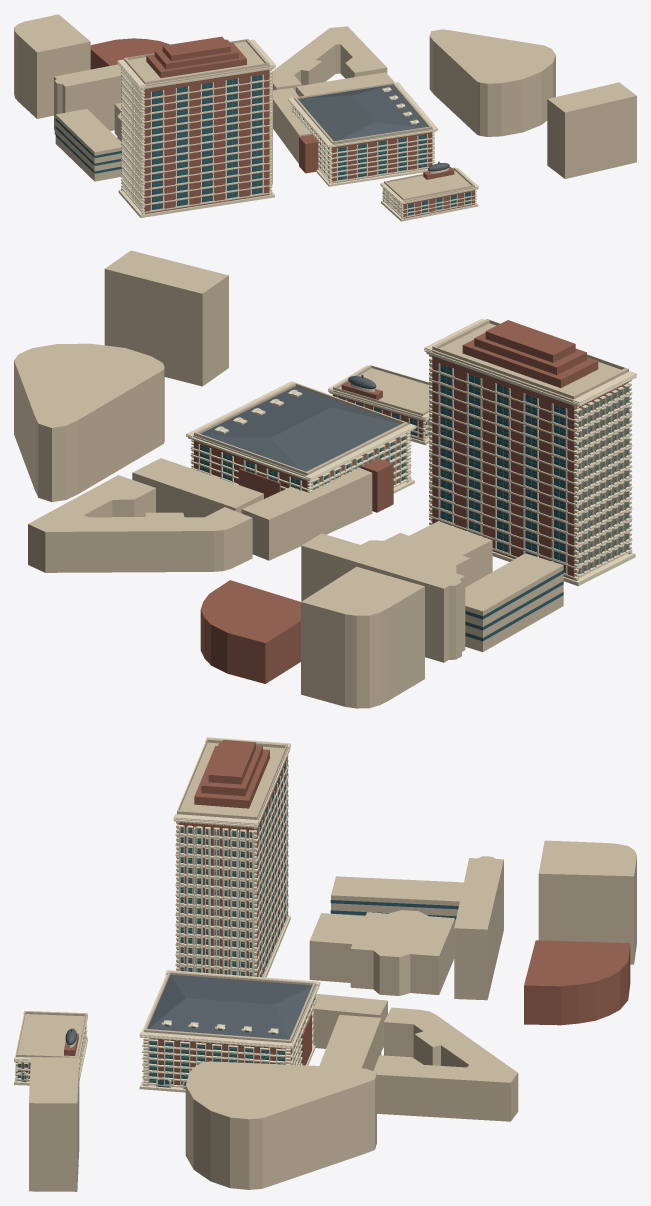
File: city_-2_3.glb
The picture shows the model from 3 angles, top to bottom: view 1: azimuth 30°, elevation 25°; view 2: azimuth 150°, elevation 25°; view 3: azimuth 270°, elevation 25°; orthographic projection. The views are drawn at different scales.
Visible parts, largest first — view 1: city_-2_3; view 2: city_-2_3; view 3: city_-2_3.
Boxes of the visible parts, <box> form: city_-2_3: <box>14,14,636,221</box>; city_-2_3: <box>14,250,636,708</box>; city_-2_3: <box>14,737,636,1191</box>.
Bounding box in the file's own units: 230 × 76 × 217.
